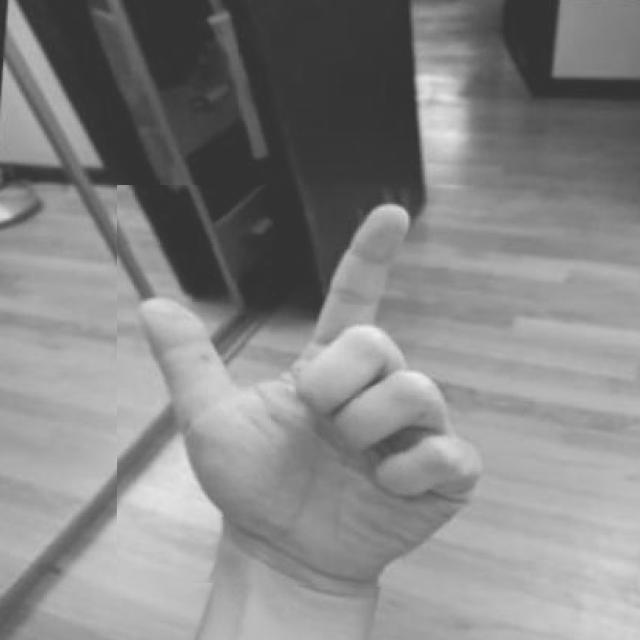L: (117, 185, 518, 590)
